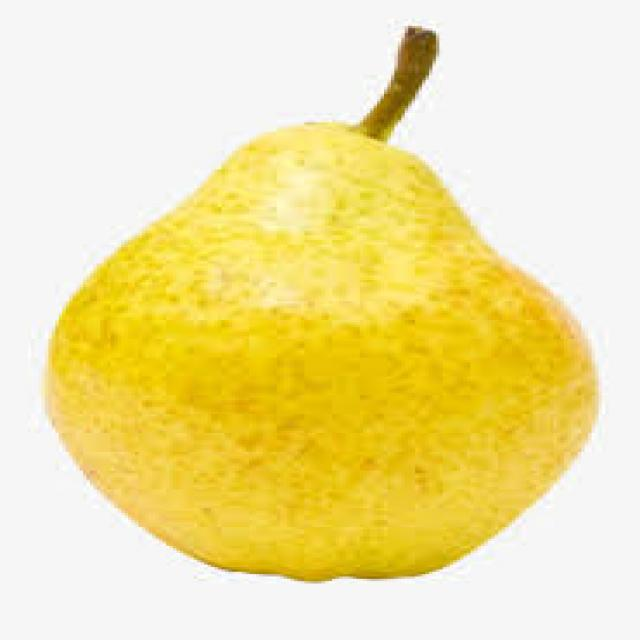organic waste: (48, 26, 595, 579)
